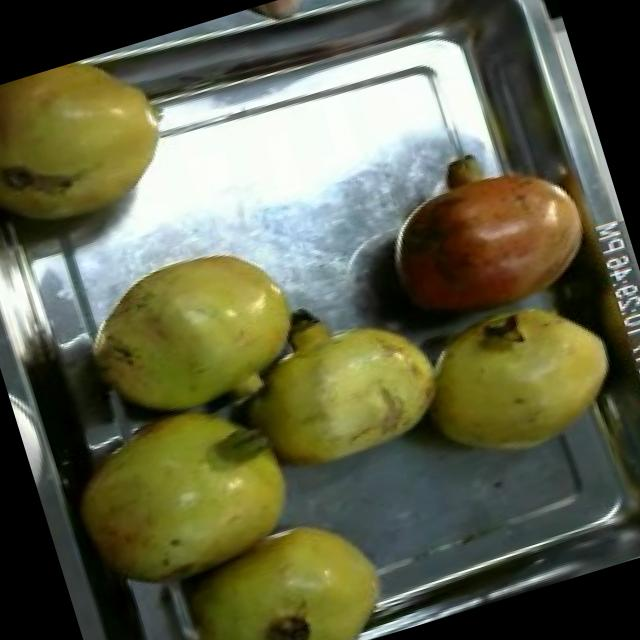fruit: (41, 362, 340, 630), (55, 213, 340, 456), (222, 272, 463, 490), (359, 138, 611, 345), (400, 276, 634, 480), (0, 35, 203, 260), (160, 481, 411, 640)
